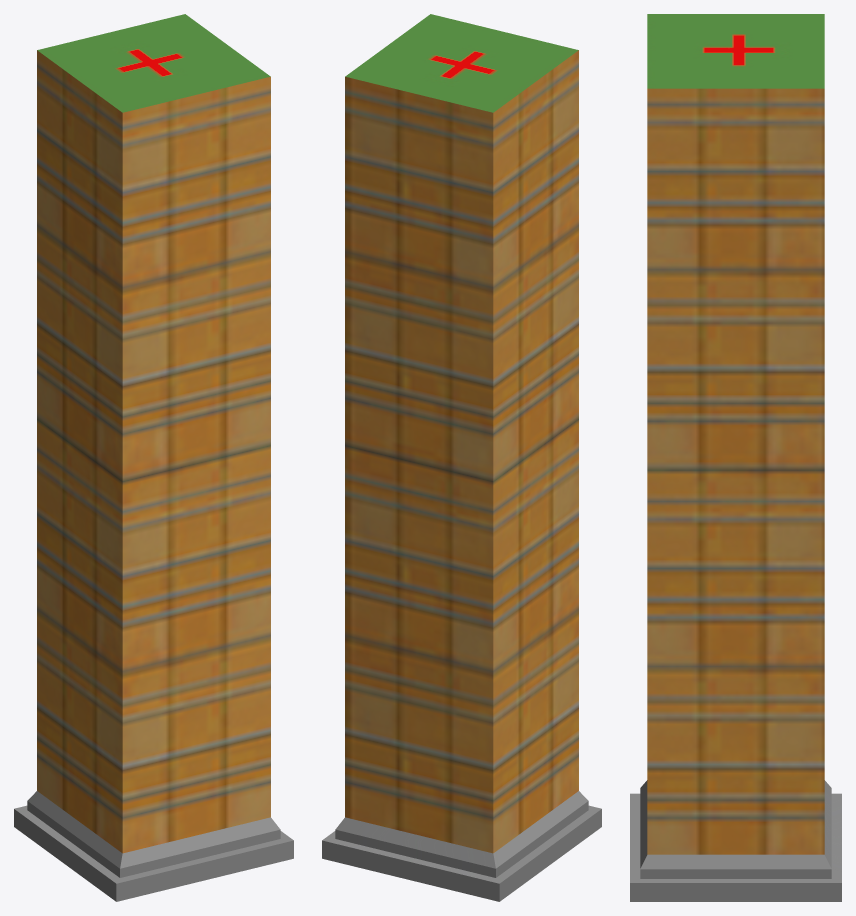
The model's file is obj_office_3.fbx.
3 renders of one model, left to right at view 1: azimuth 30°, elevation 25°; view 2: azimuth 150°, elevation 25°; view 3: azimuth 270°, elevation 25°, orthographic. The views are drawn at different scales.
Visible parts, largest first — view 1: pCube6; view 2: pCube6; view 3: pCube6.
Boxes of the visible parts, left/top/right/bottom form: pCube6: left=14, top=14, right=293, bottom=901; pCube6: left=322, top=14, right=601, bottom=901; pCube6: left=630, top=14, right=841, bottom=901.
Bounding box in the file's own units: 6.73 × 28.23 × 6.73.
